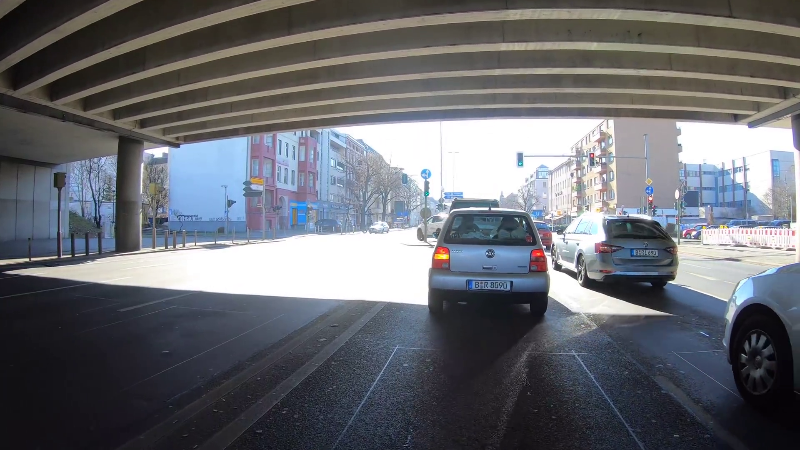Plate: (465, 278, 512, 291), (629, 245, 659, 259)
